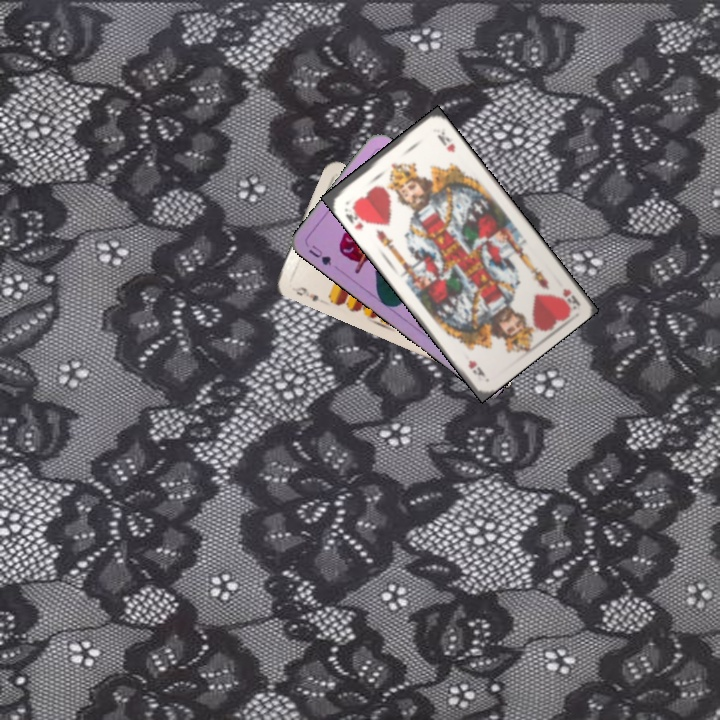E9: (287, 282, 322, 304)
GU: (305, 241, 334, 268)
HK: (340, 202, 370, 232), (558, 284, 582, 311)
